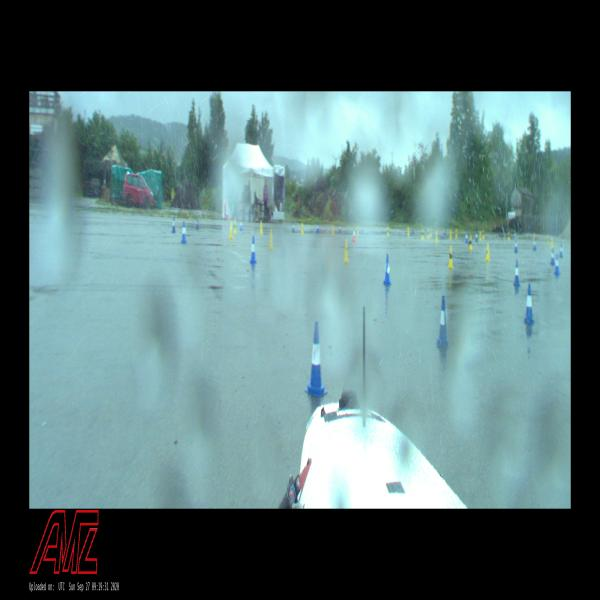blue_cone: (305, 323, 327, 397), (436, 296, 448, 344), (524, 286, 534, 324), (383, 256, 391, 285), (250, 236, 256, 263), (514, 261, 520, 284), (181, 221, 187, 243), (553, 254, 559, 274), (172, 216, 176, 232), (550, 248, 554, 264), (532, 236, 536, 251), (514, 237, 518, 251), (559, 244, 563, 256), (464, 231, 468, 241), (316, 222, 319, 233), (292, 221, 295, 232), (239, 219, 242, 230), (475, 230, 478, 240), (196, 218, 198, 229)
orange_cone: (352, 227, 356, 242)
yellow_cone: (343, 240, 349, 262), (448, 246, 453, 268), (268, 230, 273, 249), (229, 222, 233, 238), (485, 243, 489, 258), (427, 227, 431, 237), (469, 235, 472, 248), (234, 221, 237, 234), (260, 220, 263, 233), (481, 229, 485, 238), (421, 228, 424, 240), (301, 222, 304, 233), (332, 225, 335, 236), (435, 231, 438, 242), (386, 226, 389, 236), (449, 229, 452, 239), (454, 228, 457, 238), (407, 227, 410, 236), (550, 236, 552, 249), (357, 225, 359, 236), (479, 230, 481, 240), (508, 231, 509, 240)
